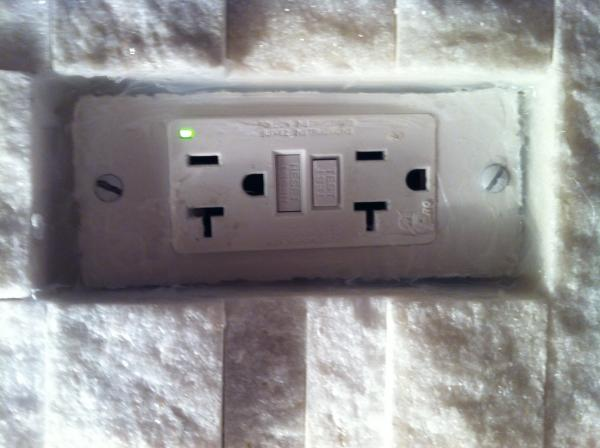outlet: (178, 145, 270, 241), (350, 140, 432, 237)
